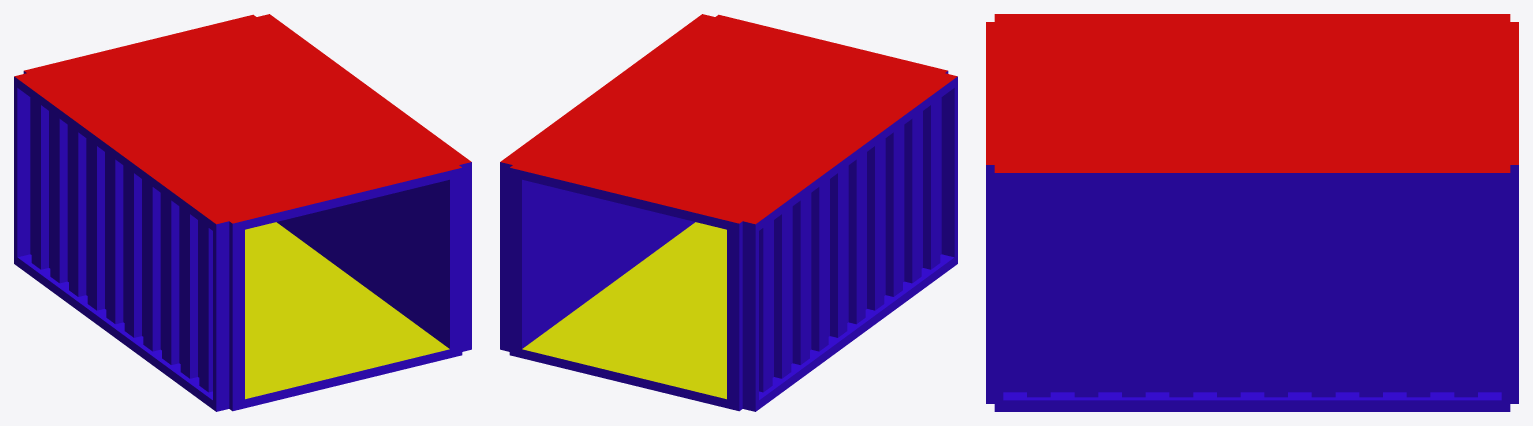
File: Container Final.fbx
3 renders of one model, left to right at view 1: azimuth 30°, elevation 25°; view 2: azimuth 150°, elevation 25°; view 3: azimuth 270°, elevation 25°, orthographic. The views are drawn at different scales.
Visible parts, largest first — view 1: container_open_low; view 2: container_open_low; view 3: container_open_low.
Boxes of the visible parts, x1,y1,x2,y2 form: container_open_low: [14, 14, 471, 411]; container_open_low: [500, 14, 957, 411]; container_open_low: [986, 14, 1518, 411].
Bounding box in the file's own units: 3.47 × 2.43 × 4.92.
